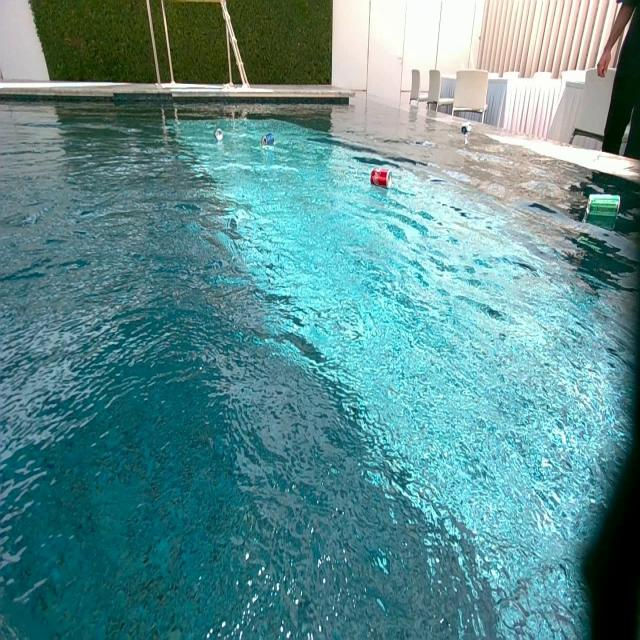Cans: (586, 196, 621, 215), (371, 168, 392, 188), (263, 134, 276, 147), (213, 128, 223, 141), (460, 125, 470, 136)
